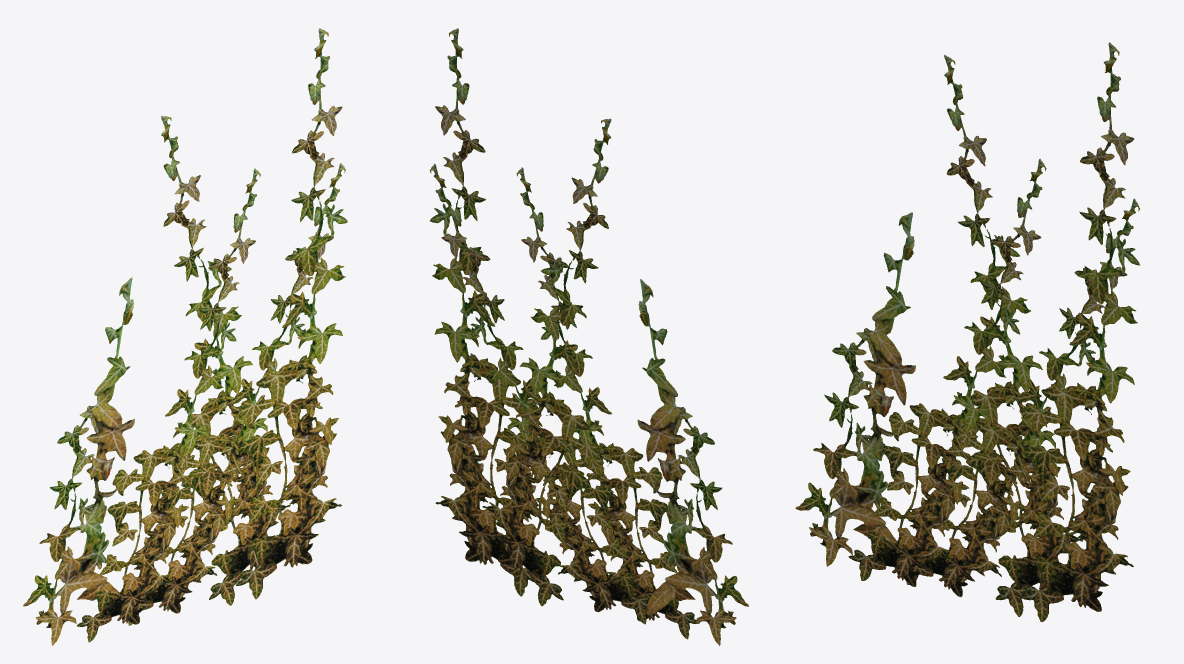
Rendered from ivy-2.fbx.
3 renders of one model, left to right at view 1: azimuth 30°, elevation 25°; view 2: azimuth 150°, elevation 25°; view 3: azimuth 330°, elevation 25°, orthographic. The views are drawn at different scales.
Visible parts, largest first — view 1: Mesh; view 2: Mesh; view 3: Mesh.
Boxes of the visible parts, x1,y1,x2,y2 form: Mesh: (23, 28, 347, 645); Mesh: (429, 28, 748, 645); Mesh: (795, 42, 1139, 621).
Bounding box in the file's own units: 290 × 457 × 3.28.
